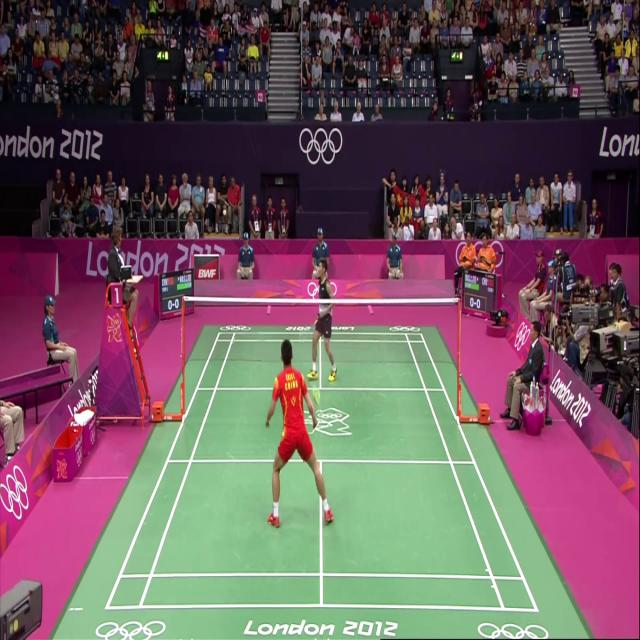Net: (180, 294, 461, 369)
Player1: (255, 350, 346, 543)
Player2: (304, 258, 343, 376)
Shuttlecock: (218, 203, 228, 220)
